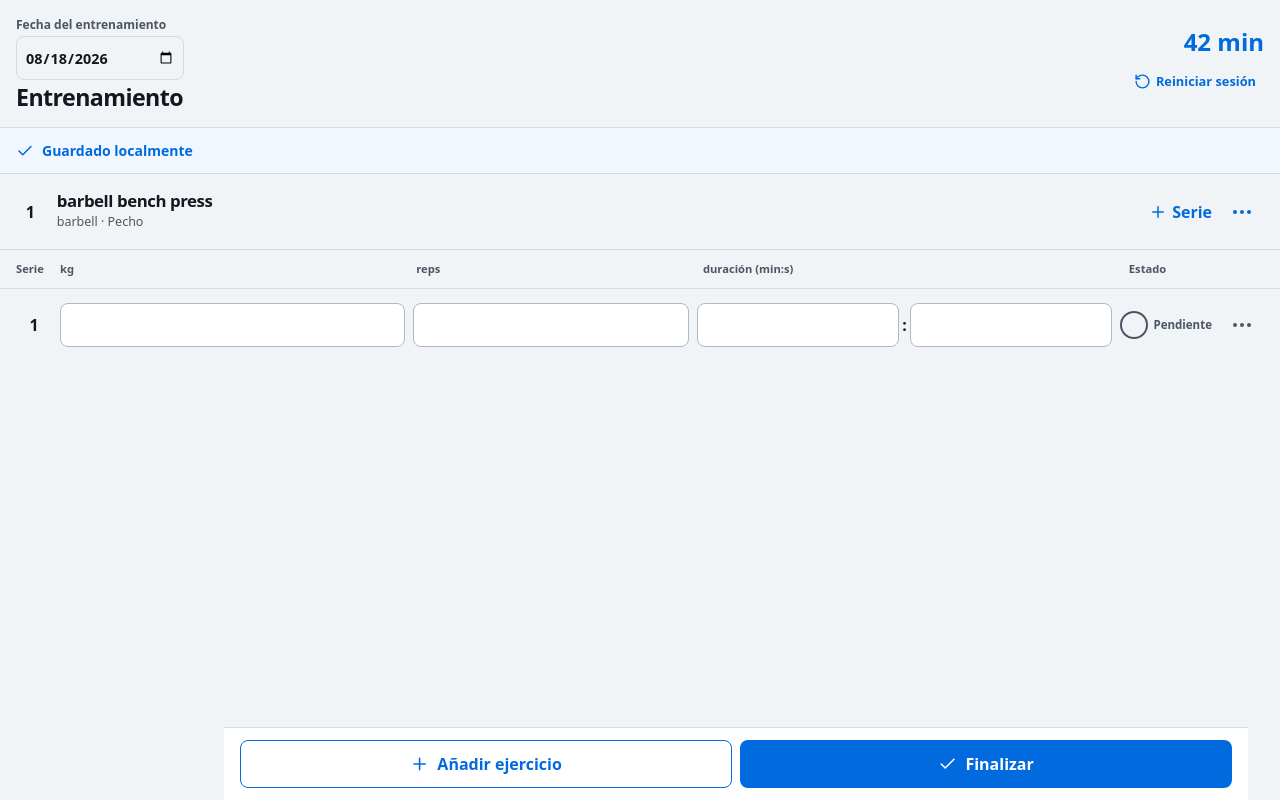
Test: ActiveWorkoutPage › shows a useful validation message before completing an empty set
The image size is (1280, 800).
Click the button with aria-label "Marcar serie 1 como completada" at (1166, 325), box [1120,303,1212,347]
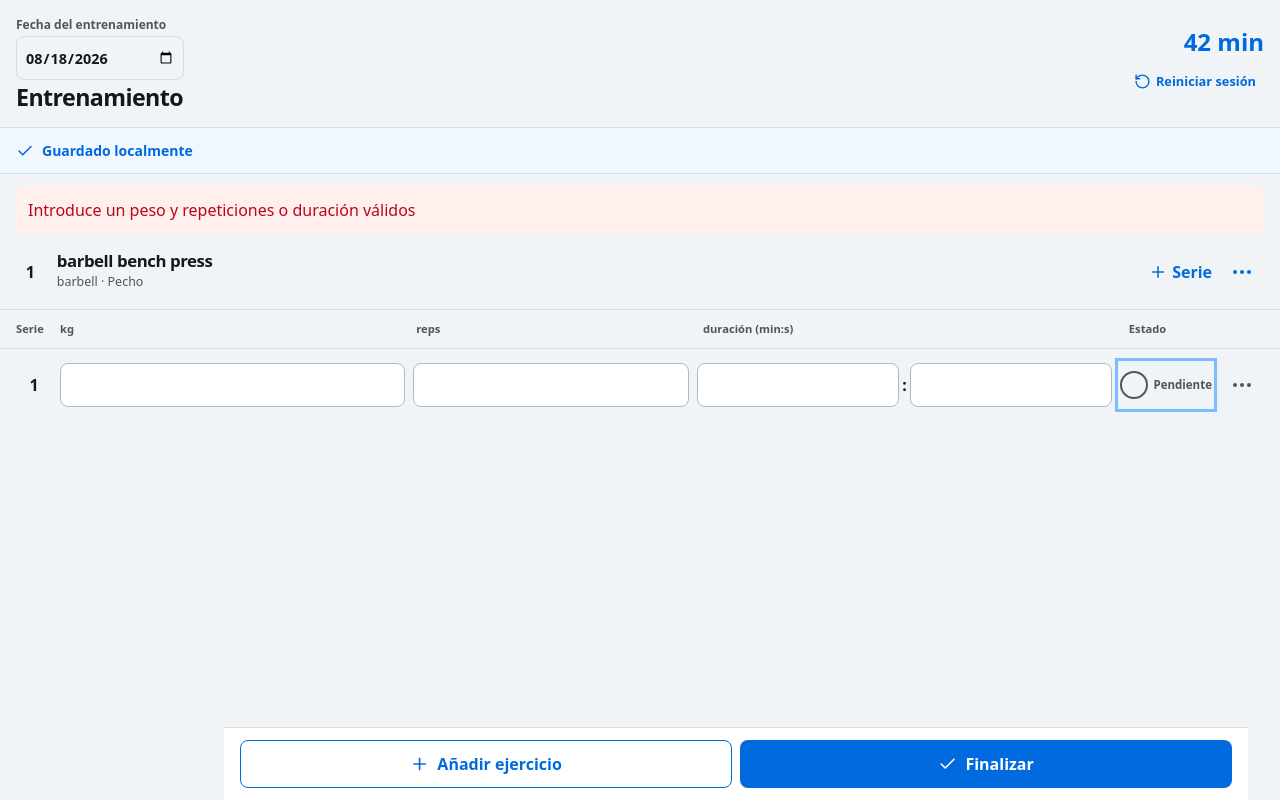
Expected: the message "Introduce un peso y repeticiones o duración válidos" is shown, [16,186,1264,234]
